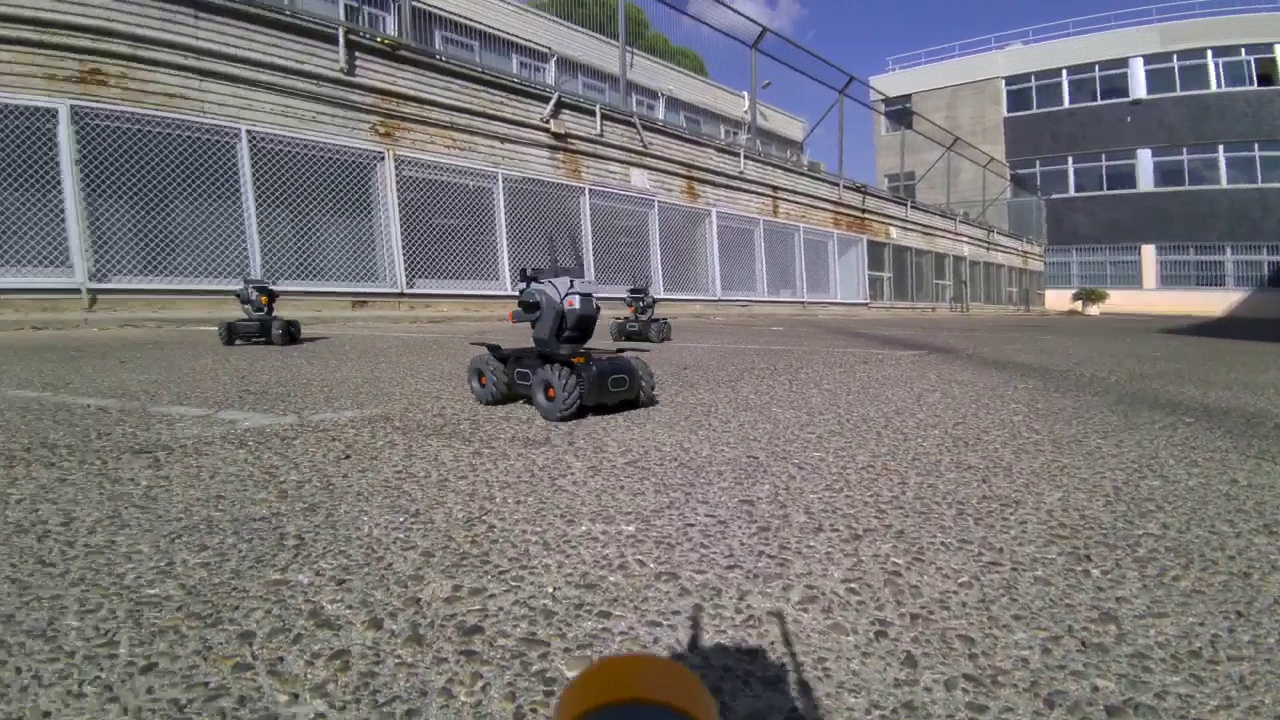robot: (461, 241, 655, 426), (218, 269, 305, 352), (606, 277, 677, 351)
